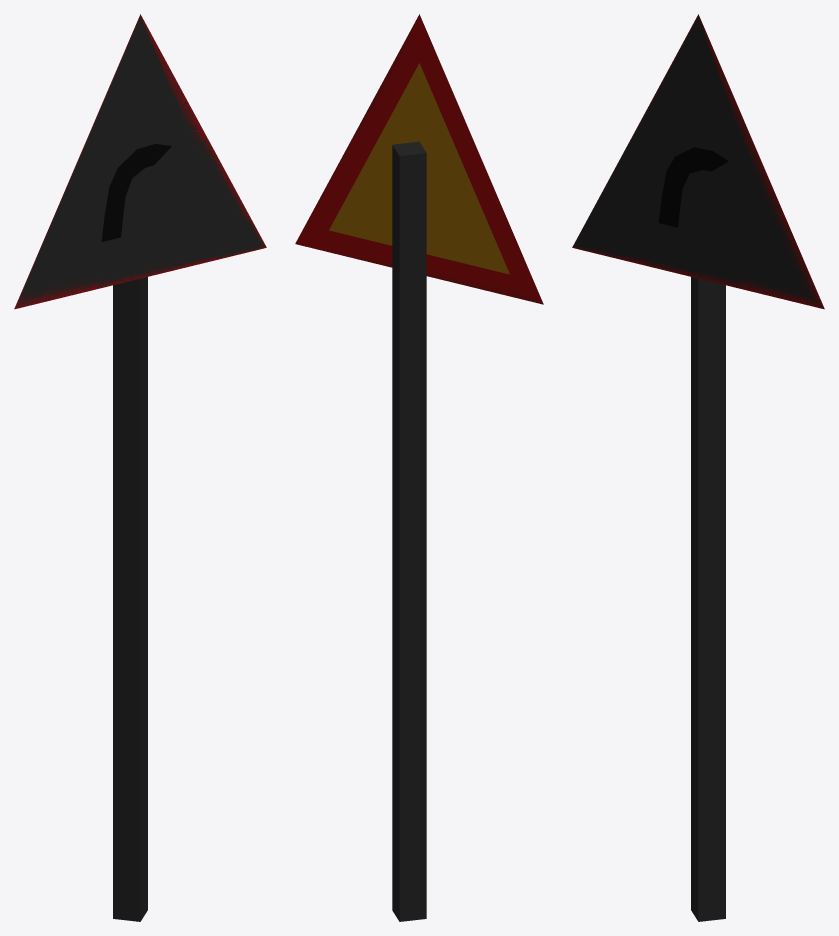
Rendered from sharprightturn.obj.
3 renders of one model, left to right at view 1: azimuth 30°, elevation 25°; view 2: azimuth 150°, elevation 25°; view 3: azimuth 330°, elevation 25°, orthographic.
Parts seen in each view (by area): view 1: Cylinder.000; view 2: Cylinder.000; view 3: Cylinder.000.
Boxes of the visible parts, left/top/right/bottom form: Cylinder.000: left=14, top=14, right=266, bottom=921; Cylinder.000: left=295, top=14, right=543, bottom=921; Cylinder.000: left=572, top=14, right=824, bottom=921.
Size of the model in its own units: 0.8584 by 2.95 by 0.1218.
